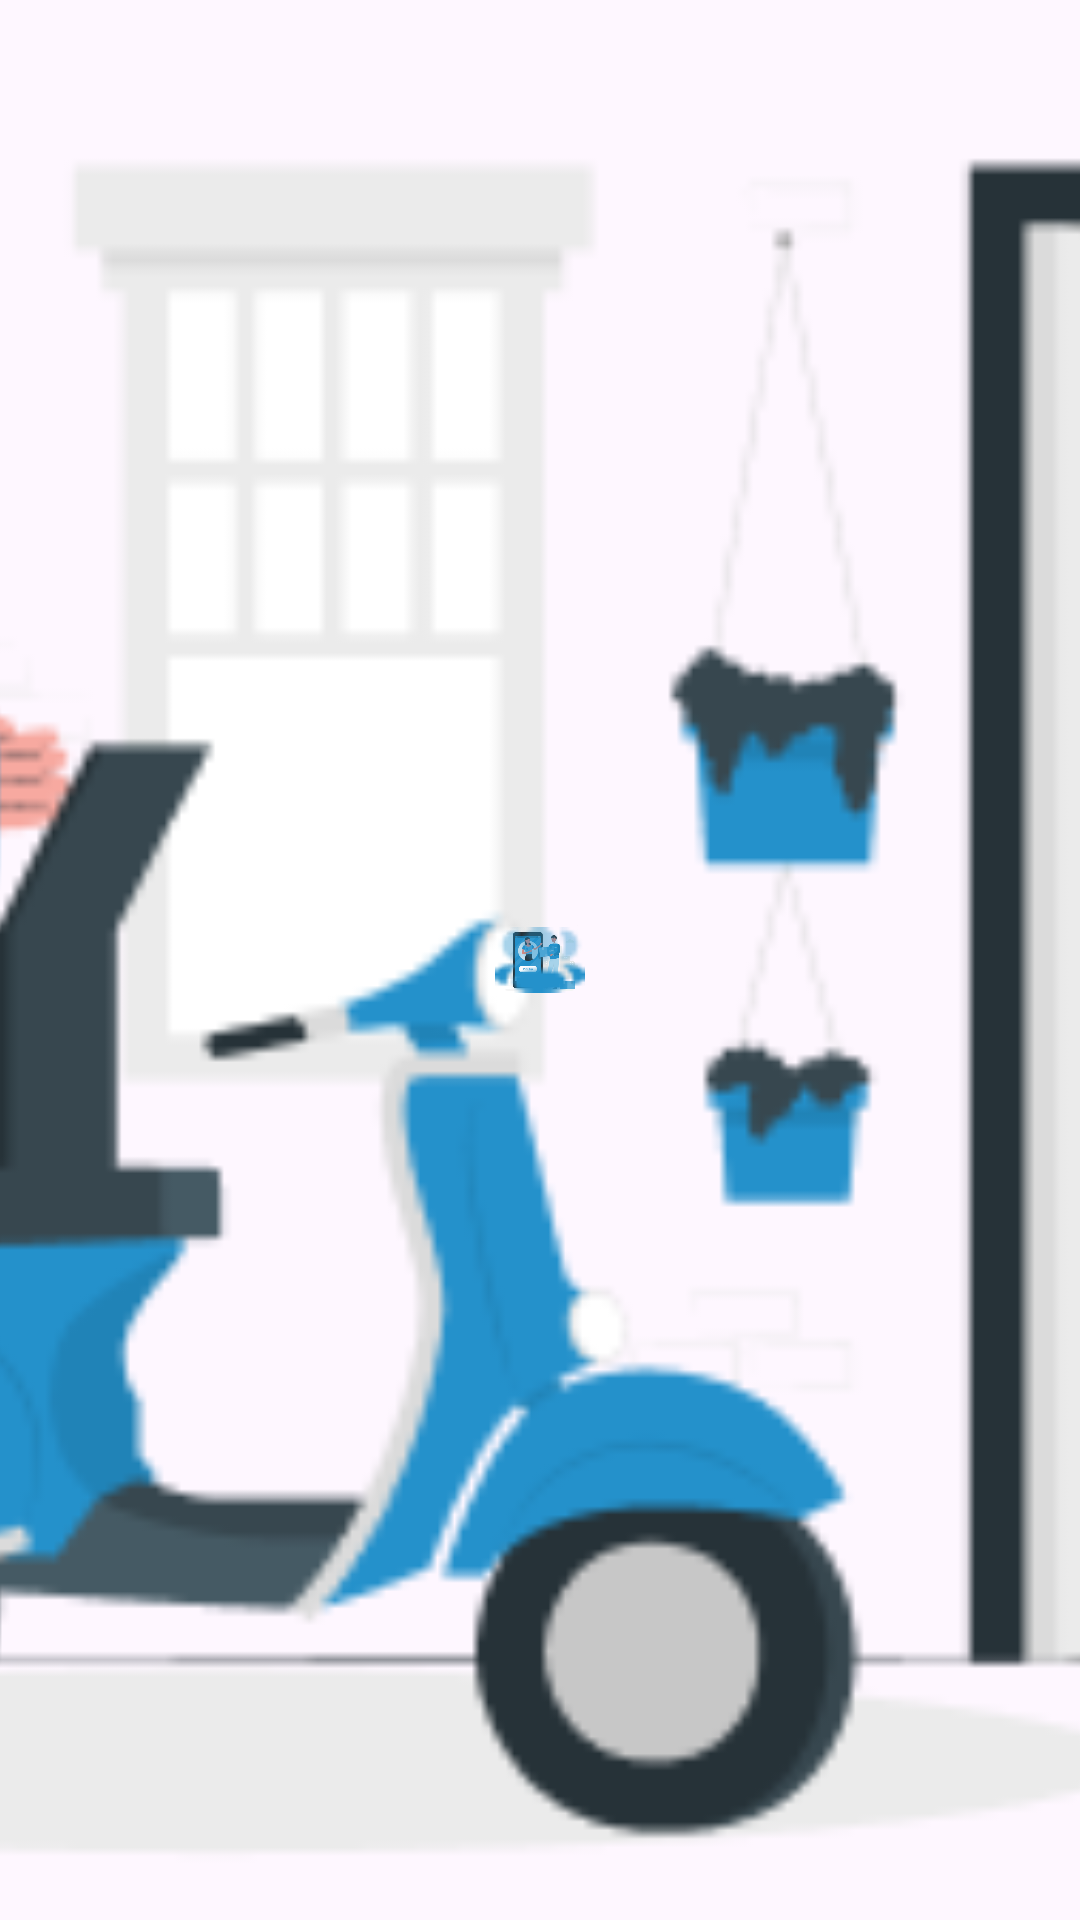

Locate icon controls on the screen. Image size 1080x1920, boxes as [x1=x1, y1=y1, x2=x2, y2=y2].
three user: [x1=495, y1=922, x2=585, y2=993]
